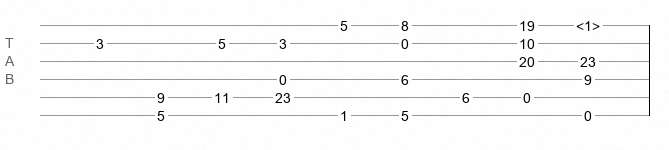0: (279, 72, 287, 82), (401, 36, 409, 46), (523, 90, 531, 100), (584, 108, 592, 118)
1: (340, 108, 348, 118)
10: (519, 36, 535, 46)
11: (214, 90, 230, 100)
19: (519, 18, 535, 28)
20: (519, 54, 535, 64)
23: (275, 90, 291, 100), (580, 54, 596, 64)
3: (96, 36, 104, 46), (279, 36, 287, 46)
5: (157, 108, 165, 118), (218, 36, 226, 46), (340, 18, 348, 28), (401, 108, 409, 118)
6: (401, 72, 409, 82), (462, 90, 470, 100)
8: (401, 18, 409, 28)
9: (157, 90, 165, 100), (584, 72, 592, 82)
harmonic: (576, 18, 600, 28)
